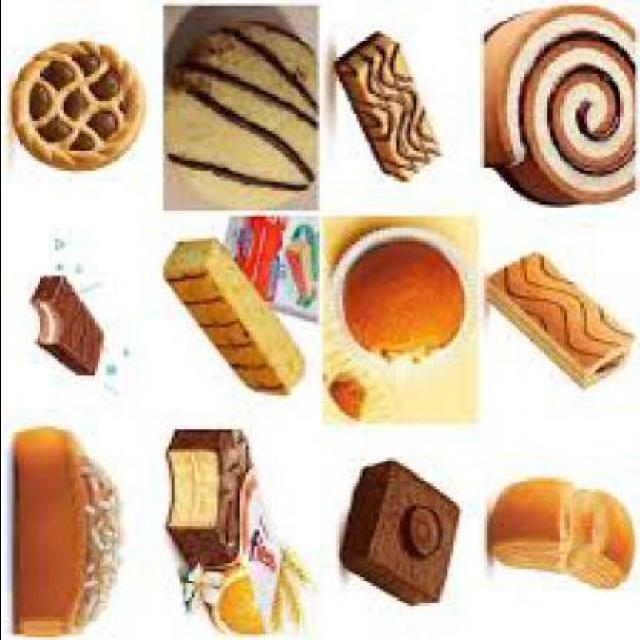Merendine packaged: (483, 4, 637, 208), (162, 23, 324, 211), (12, 426, 128, 637), (162, 230, 306, 398), (483, 242, 637, 392), (336, 458, 470, 608), (483, 464, 637, 594), (8, 37, 148, 174), (333, 22, 444, 186), (333, 233, 469, 361), (31, 273, 106, 382)
